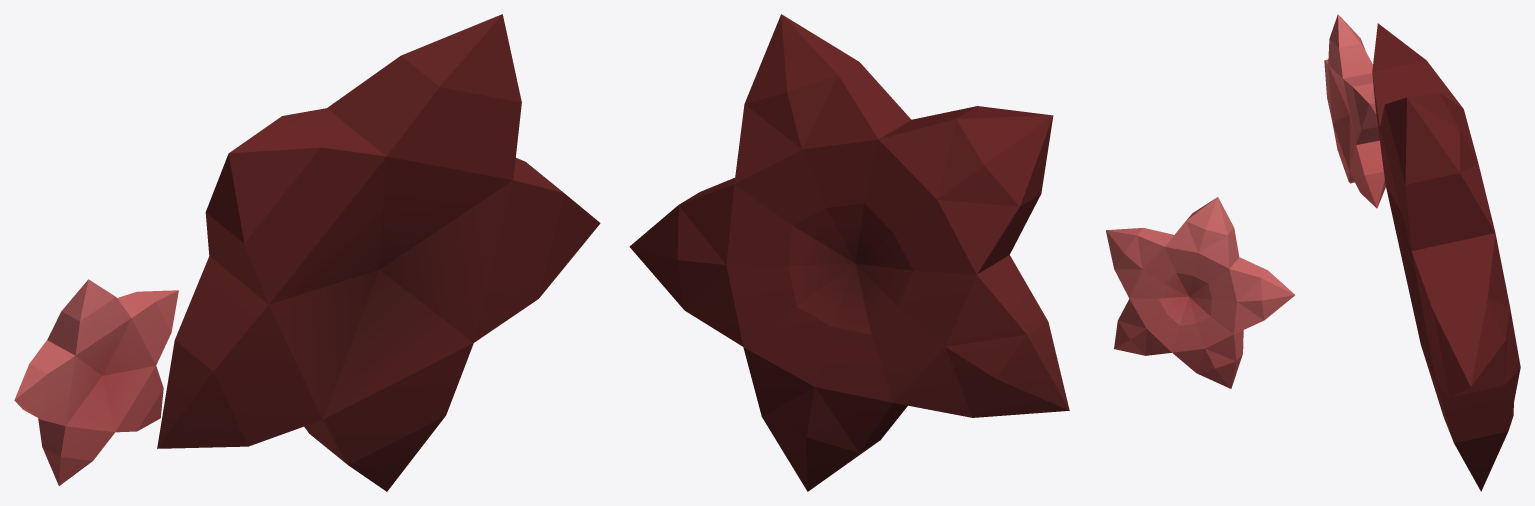
File: Starfish_04.FBX
3 renders of one model, left to right at view 1: azimuth 30°, elevation 25°; view 2: azimuth 150°, elevation 25°; view 3: azimuth 270°, elevation 25°, orthographic. The views are drawn at different scales.
Parts seen in each view (by area): view 1: Starfish_04; view 2: Starfish_04; view 3: Starfish_04.
Boxes of the visible parts, x1,y1,x2,y2 form: Starfish_04: (14, 14, 600, 491); Starfish_04: (629, 14, 1294, 491); Starfish_04: (1324, 14, 1520, 491).
Size of the model in its own units: 2.82 by 1.98 by 0.8268.
